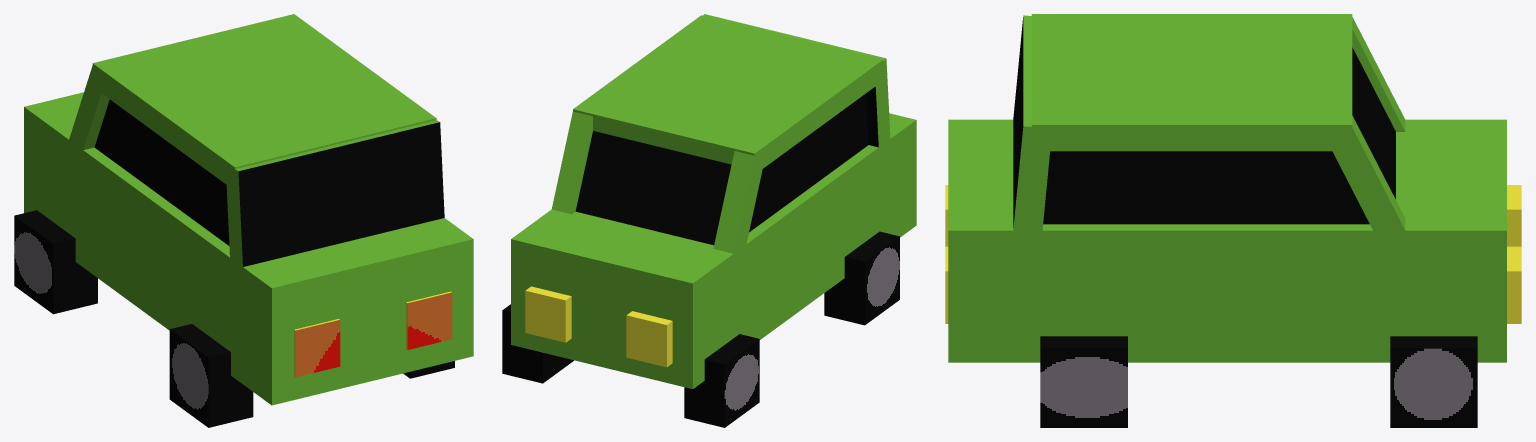
The model's file is carroazul.fbx.
3 renders of one model, left to right at view 1: azimuth 30°, elevation 25°; view 2: azimuth 150°, elevation 25°; view 3: azimuth 270°, elevation 25°, orthographic. The views are drawn at different scales.
Visible parts, largest first — view 1: cube_1, cube_9_1, cube_10_1, cube_11_1, cube_2_1, cube_1_2, cube_6_3, cube_5_3, cube_8_1, cube_13_1; view 2: cube_1, cube_9_1, cube_15_1, cube_11_1, cube_1_2, cube_2_1, cube_8_1, cube_7_1, cube_5_1, cube_6_1, cube_10_1, cube_4_1; view 3: cube_1, cube_9_1, cube_12_1, cube_3_1, cube_4_1, cube_14_1, cube_10_1, cube_7_1, cube_15_1, cube_8_1, cube_6_1, cube_5_1.
Part boxes in pixels (x1,y1,x2,y2): cube_1: (24,92,473,405); cube_9_1: (92,14,436,189); cube_10_1: (225,120,444,291); cube_11_1: (100,99,228,242); cube_2_1: (169,324,253,427); cube_1_2: (14,210,97,314); cube_6_3: (406,291,452,349); cube_5_3: (294,319,340,377); cube_8_1: (65,65,109,168); cube_13_1: (94,131,229,245); cube_1: (511,113,916,389); cube_9_1: (573,15,882,168); cube_15_1: (575,131,731,245); cube_11_1: (749,93,868,232); cube_1_2: (684,334,759,427); cube_2_1: (824,231,899,325); cube_8_1: (713,151,765,269); cube_7_1: (552,111,592,214); cube_5_1: (626,311,672,367); cube_6_1: (525,286,571,342); cube_10_1: (703,14,891,169); cube_4_1: (502,304,573,383); cube_1: (948,119,1506,362); cube_9_1: (1031,14,1352,151); cube_12_1: (1043,151,1360,224); cube_3_1: (1040,336,1127,427); cube_4_1: (1390,336,1477,427); cube_14_1: (1069,198,1369,224); cube_10_1: (1010,15,1049,259); cube_7_1: (1326,115,1413,257); cube_15_1: (1352,47,1395,199); cube_8_1: (1352,17,1405,131); cube_6_1: (1507,246,1521,323); cube_5_1: (1507,185,1521,246).
Size of the model in its own units: 2707 by 2707 by 4861.
Materials: 6 (6 with a texture image).
